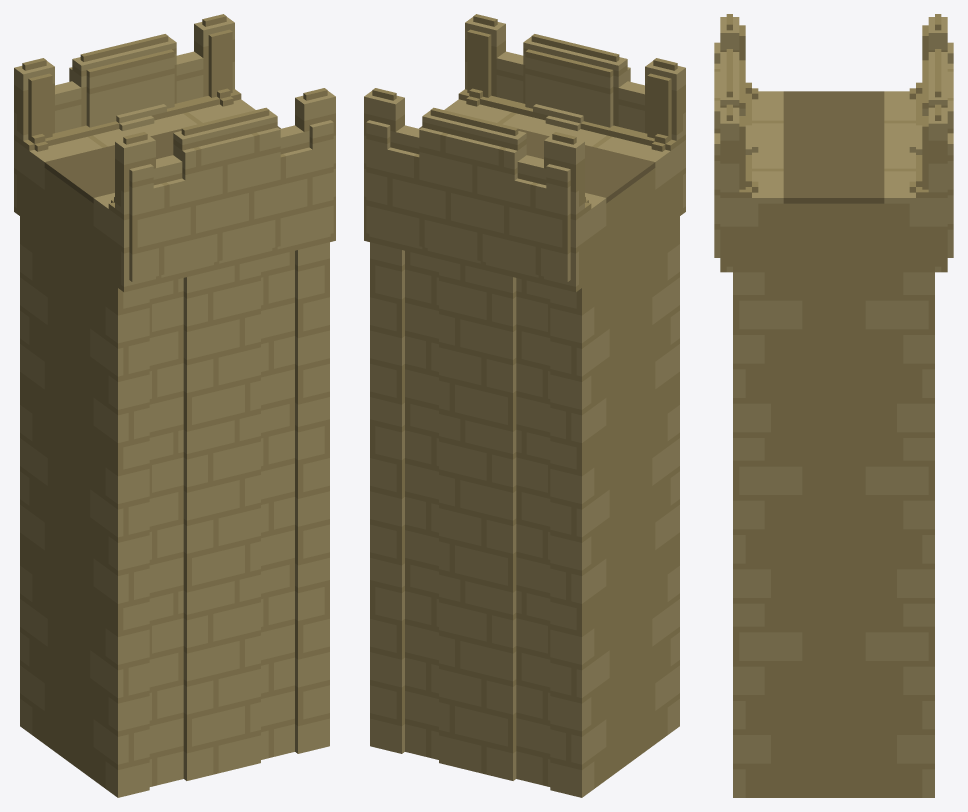
File: wall_1_straight.fbx
3 views of the same model, side by side, from view 1: azimuth 30°, elevation 25°; view 2: azimuth 150°, elevation 25°; view 3: azimuth 270°, elevation 25° (orthographic). The views are drawn at different scales.
Visible parts, largest first — view 1: wall_1_straight; view 2: wall_1_straight; view 3: wall_1_straight.
Part boxes in pixels (bbox=[...]): wall_1_straight: bbox=[14, 14, 335, 797]; wall_1_straight: bbox=[364, 14, 685, 797]; wall_1_straight: bbox=[714, 14, 953, 797].
Size of the model in its own units: 400 by 380 by 1190.
